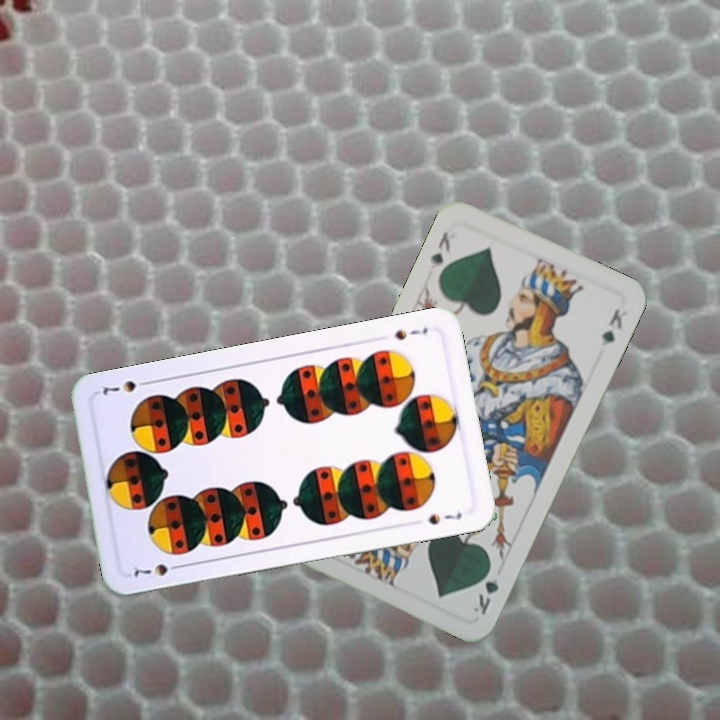GK: (469, 560, 502, 618), (426, 227, 453, 272)
S7: (126, 559, 185, 580), (391, 323, 430, 343)
